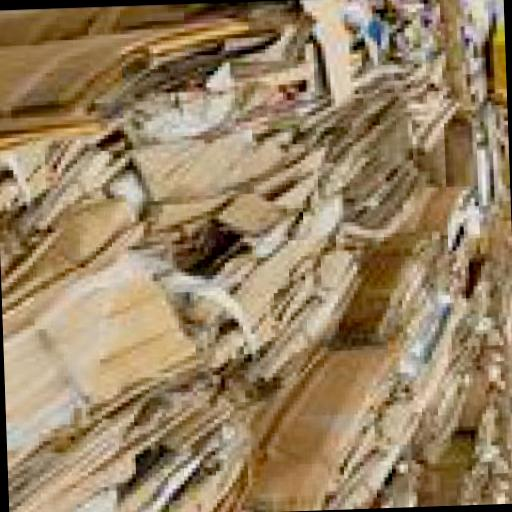cardboard: (0, 0, 512, 512), (0, 2, 304, 148), (186, 180, 373, 410), (4, 262, 210, 464), (215, 342, 430, 512), (6, 375, 257, 512), (332, 237, 475, 469), (147, 130, 336, 268), (279, 0, 413, 167), (0, 148, 145, 284), (378, 188, 488, 364), (140, 138, 303, 240), (334, 106, 436, 253), (380, 0, 465, 155), (478, 218, 512, 502), (424, 116, 510, 218), (434, 0, 495, 117), (302, 0, 362, 110), (428, 432, 488, 504), (456, 364, 494, 433)
